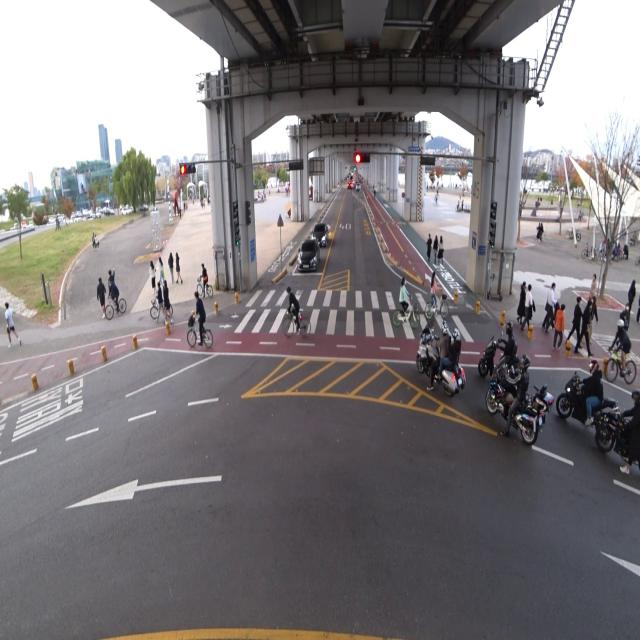Car: (295, 237, 322, 277), (312, 217, 333, 249)
Motorcycle: (484, 349, 554, 446), (592, 371, 640, 490), (552, 346, 618, 430), (415, 318, 467, 398)
